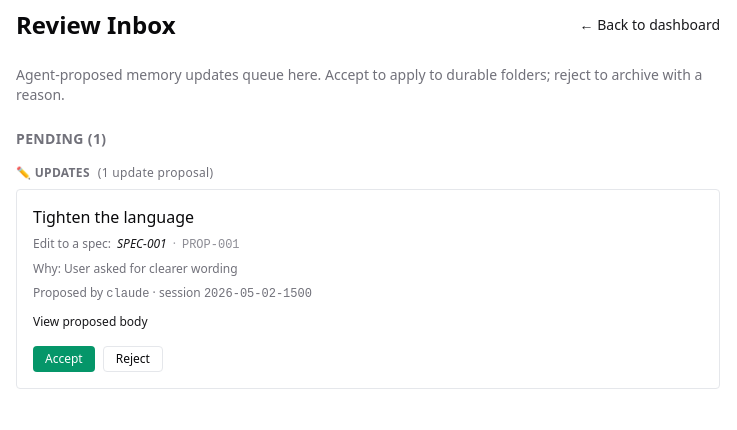
Test: ReviewInbox (smoke) › surfaces the server error message when accept fails
The width and height of the screenshot is (737, 430).
What coordinates should you click on to do the following:
click the button "Accept"
I would click on:
 (64, 359)
Its box is [33,346,95,372].
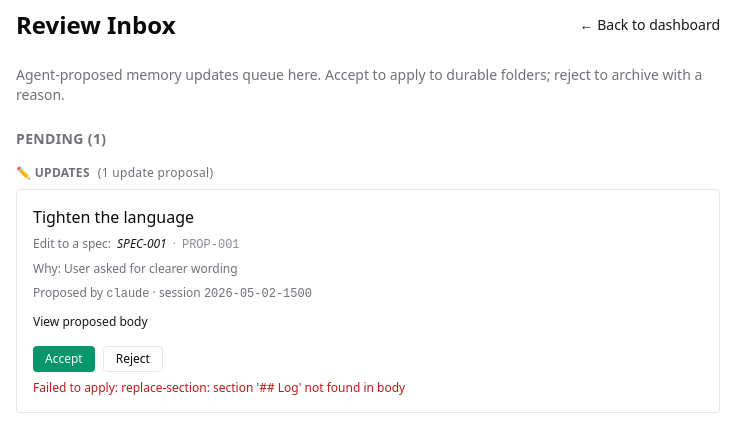
Now the text "section '## Log' not found in body" is shown, box [121,379,405,396]
